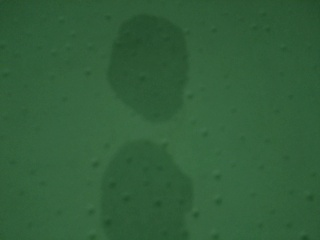Water_detected: (125, 149, 187, 234), (124, 27, 185, 106)
